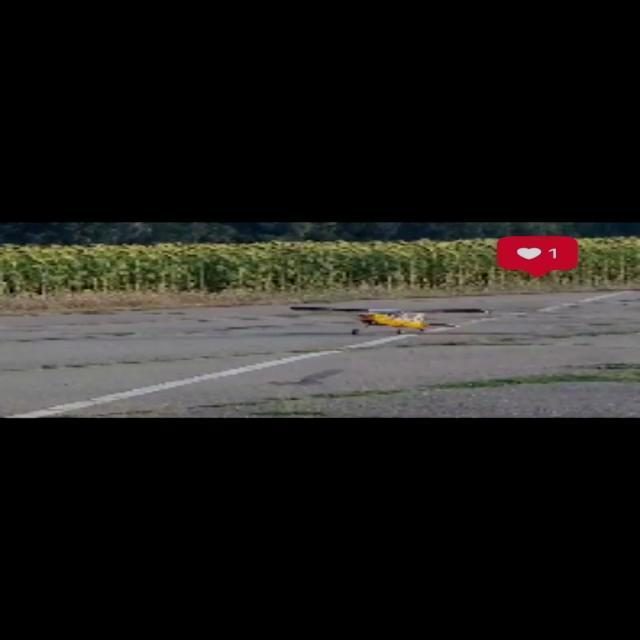iha: (374, 309, 395, 342)
